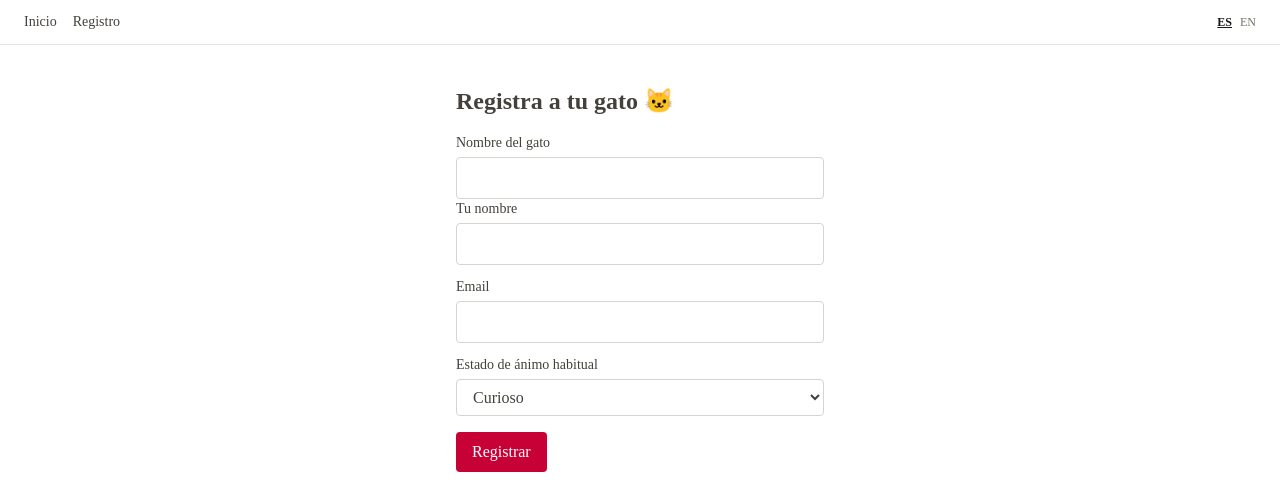
Test: Registro de Miawductor › registra un gato y navega a bienvenida con los datos correctos
In the 1st field named "nombreGato": (640, 178) [456,157,824,199], type "Michi"
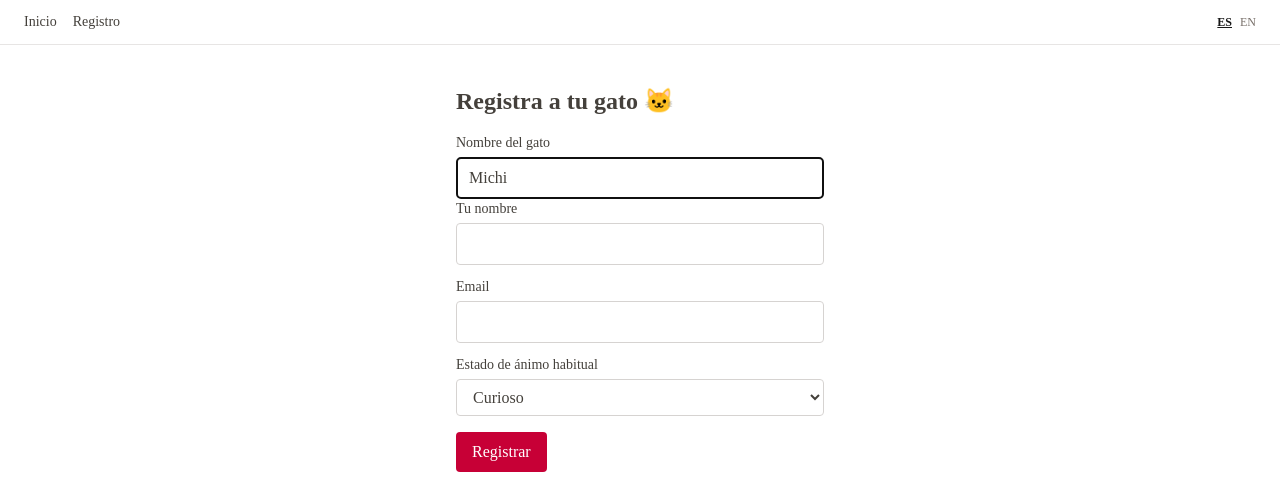
In the 2nd field named "nombreDueno": (640, 244) [456,223,824,265], type "Ana"
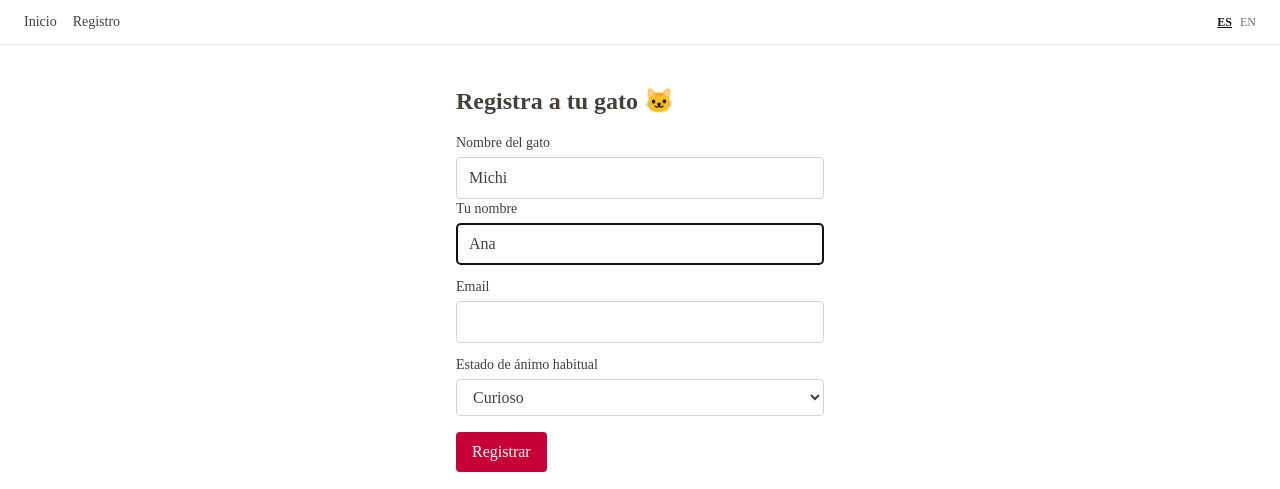
In the 3rd field named "email": (640, 322) [456,301,824,343], type "ana@ejemplo.com"
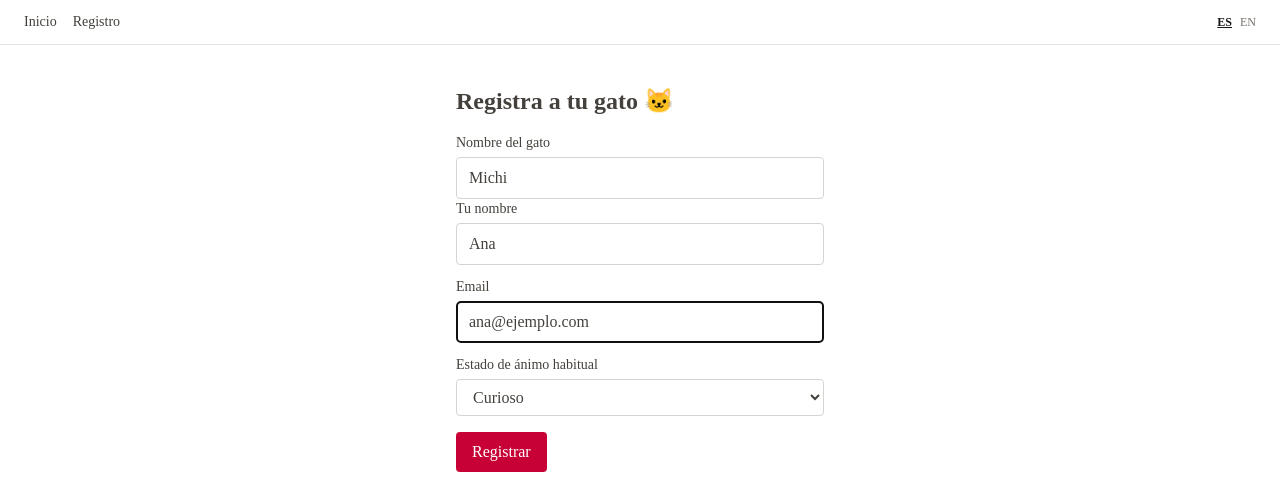
Select "Curioso" in the dropdown named "tipoMaullido": (640, 398) [456,379,824,416]
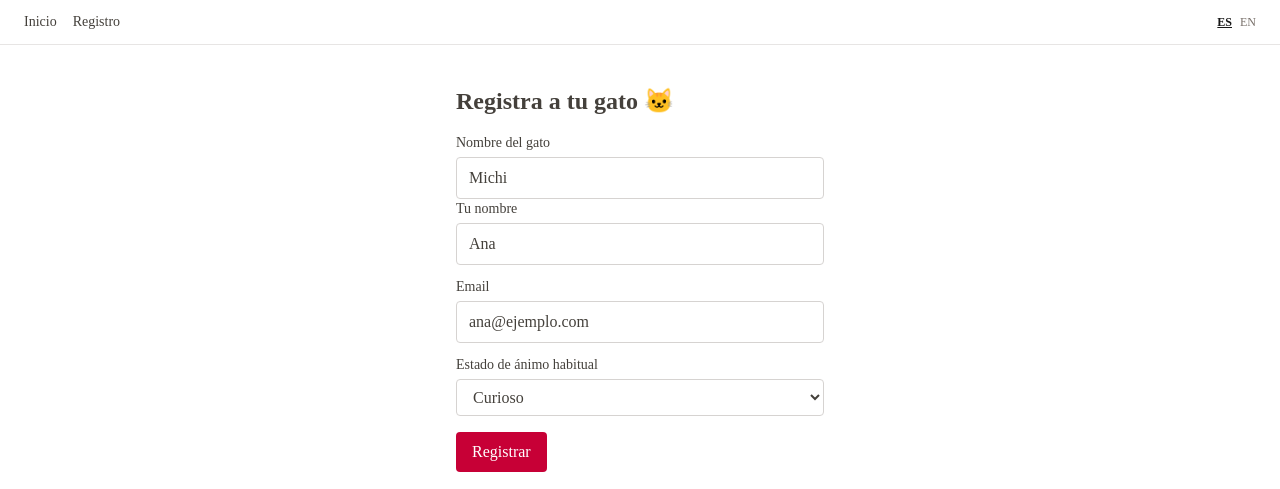
Click the button with test id "submit-registro": (502, 452) [456,432,547,472]
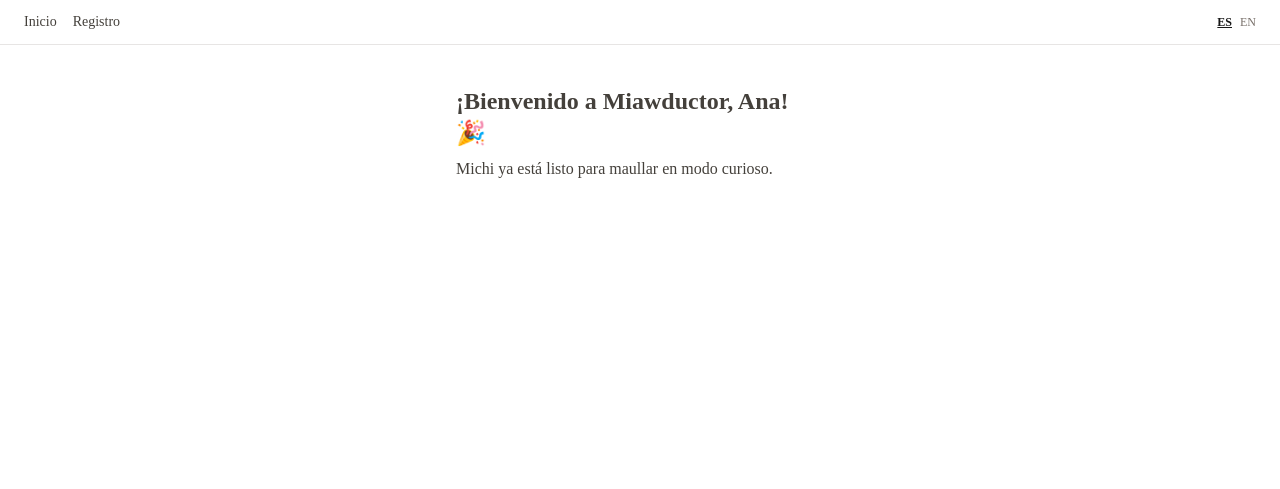
Expected: the heading "¡Bienvenido a Miawductor, Ana! 🎉" is shown, [456,85,824,149]
